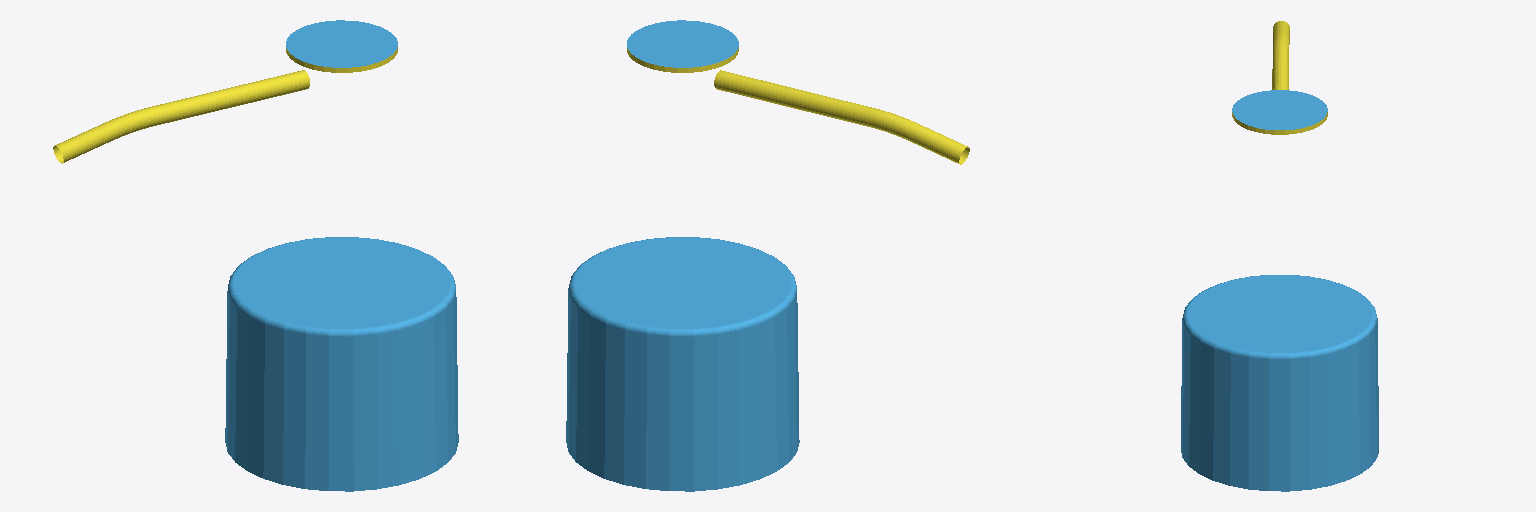
robot.urdf — partnet_9b9a4bb5550f00ea586350d6e78ecc7:
<?xml version="1.0" ?>
<robot name="partnet_9b9a4bb5550f00ea586350d6e78ecc7">
	<link name="base"/>
	<link name="link_0">
		<visual name="handle-4">
			<origin xyz="-0.013128000000000028 -0.14960500398709136 -0.04312111894339359"/>
			<geometry>
				<mesh filename="textured_objs/original-6.obj" scale="0.2 0.2 0.2"/>
			</geometry>
		</visual>
		<visual name="handle-4">
			<origin xyz="-0.013128000000000028 -0.14960500398709136 -0.04312111894339359"/>
			<geometry>
				<mesh filename="textured_objs/original-9.obj" scale="0.2 0.2 0.2"/>
			</geometry>
		</visual>
		<collision>
			<origin xyz="-0.013128000000000028 -0.14960500398709136 -0.04312111894339359"/>
			<geometry>
				<mesh filename="textured_objs/original-6.obj" scale="0.2 0.2 0.2"/>
			</geometry>
		</collision>
		<collision>
			<origin xyz="-0.013128000000000028 -0.14960500398709136 -0.04312111894339359"/>
			<geometry>
				<mesh filename="textured_objs/original-9.obj" scale="0.2 0.2 0.2"/>
			</geometry>
		</collision>
	</link>
	<joint name="joint_0" type="revolute">
		<origin xyz="0.014137898413266086 0.14960500398709136 0.044993421453171556"/>
		<axis xyz="1 0 0"/>
		<child link="link_0"/>
		<parent link="link_2"/>
		<limit lower="0.0" upper="0.36442474781641604"/>
	</joint>
	<link name="link_1">
		<visual name="base_body-10">
			<origin xyz="0 0 0"/>
			<geometry>
				<mesh filename="textured_objs/original-1.obj" scale="0.2 0.2 0.2"/>
			</geometry>
		</visual>
		<collision>
			<origin xyz="0 0 0"/>
			<geometry>
				<mesh filename="textured_objs/original-1.obj" scale="0.2 0.2 0.2"/>
			</geometry>
		</collision>
	</link>
	<joint name="joint_1" type="fixed">
		<origin rpy="1.570796326794897 0 -1.570796326794897" xyz="0 0 0"/>
		<child link="link_1"/>
		<parent link="base"/>
	</joint>
	<link name="link_2">
		<visual name="outlier-9">
			<origin xyz="0.0010098984132660596 0 0.0018723025097779692"/>
			<geometry>
				<mesh filename="textured_objs/original-5.obj" scale="0.2 0.2 0.2"/>
			</geometry>
		</visual>
		<visual name="outlier-9">
			<origin xyz="0.0010098984132660596 0 0.0018723025097779692"/>
			<geometry>
				<mesh filename="textured_objs/original-7.obj" scale="0.2 0.2 0.2"/>
			</geometry>
		</visual>
		<visual name="nose-8">
			<origin xyz="0.0010098984132660596 0 0.0018723025097779692"/>
			<geometry>
				<mesh filename="textured_objs/original-10.obj" scale="0.2 0.2 0.2"/>
			</geometry>
		</visual>
		<visual name="nose-8">
			<origin xyz="0.0010098984132660596 0 0.0018723025097779692"/>
			<geometry>
				<mesh filename="textured_objs/original-11.obj" scale="0.2 0.2 0.2"/>
			</geometry>
		</visual>
		<visual name="head-7">
			<origin xyz="0.0010098984132660596 0 0.0018723025097779692"/>
			<geometry>
				<mesh filename="textured_objs/original-8.obj" scale="0.2 0.2 0.2"/>
			</geometry>
		</visual>
		<visual name="head-7">
			<origin xyz="0.0010098984132660596 0 0.0018723025097779692"/>
			<geometry>
				<mesh filename="textured_objs/original-2.obj" scale="0.2 0.2 0.2"/>
			</geometry>
		</visual>
		<visual name="head-7">
			<origin xyz="0.0010098984132660596 0 0.0018723025097779692"/>
			<geometry>
				<mesh filename="textured_objs/original-3.obj" scale="0.2 0.2 0.2"/>
			</geometry>
		</visual>
		<visual name="head-7">
			<origin xyz="0.0010098984132660596 0 0.0018723025097779692"/>
			<geometry>
				<mesh filename="textured_objs/original-4.obj" scale="0.2 0.2 0.2"/>
			</geometry>
		</visual>
		<collision>
			<origin xyz="0.0010098984132660596 0 0.0018723025097779692"/>
			<geometry>
				<mesh filename="textured_objs/original-5.obj" scale="0.2 0.2 0.2"/>
			</geometry>
		</collision>
		<collision>
			<origin xyz="0.0010098984132660596 0 0.0018723025097779692"/>
			<geometry>
				<mesh filename="textured_objs/original-7.obj" scale="0.2 0.2 0.2"/>
			</geometry>
		</collision>
		<collision>
			<origin xyz="0.0010098984132660596 0 0.0018723025097779692"/>
			<geometry>
				<mesh filename="textured_objs/original-10.obj" scale="0.2 0.2 0.2"/>
			</geometry>
		</collision>
		<collision>
			<origin xyz="0.0010098984132660596 0 0.0018723025097779692"/>
			<geometry>
				<mesh filename="textured_objs/original-11.obj" scale="0.2 0.2 0.2"/>
			</geometry>
		</collision>
		<collision>
			<origin xyz="0.0010098984132660596 0 0.0018723025097779692"/>
			<geometry>
				<mesh filename="textured_objs/original-8.obj" scale="0.2 0.2 0.2"/>
			</geometry>
		</collision>
		<collision>
			<origin xyz="0.0010098984132660596 0 0.0018723025097779692"/>
			<geometry>
				<mesh filename="textured_objs/original-2.obj" scale="0.2 0.2 0.2"/>
			</geometry>
		</collision>
		<collision>
			<origin xyz="0.0010098984132660596 0 0.0018723025097779692"/>
			<geometry>
				<mesh filename="textured_objs/original-3.obj" scale="0.2 0.2 0.2"/>
			</geometry>
		</collision>
		<collision>
			<origin xyz="0.0010098984132660596 0 0.0018723025097779692"/>
			<geometry>
				<mesh filename="textured_objs/original-4.obj" scale="0.2 0.2 0.2"/>
			</geometry>
		</collision>
	</link>
	<joint name="joint_2" type="fixed">
		<origin xyz="0.0 0 0.0"/>
		<axis xyz="0 1 0"/>
		<child link="link_2"/>
		<parent link="link_2_helper"/>
	</joint>
	<link name="link_2_helper"/>
	<joint name="joint_3" type="fixed">
		<origin xyz="-0.0010098984132660596 0 -0.0018723025097779692"/>
		<axis xyz="0 1 0"/>
		<child link="link_2_helper"/>
		<parent link="link_1"/>
		<limit lower="-0.04800000000000004" upper="-0.008000000000000007"/>
	</joint>
</robot>

--- What the picture shows (computed from the rendered views, not written in the file) ---
3 views of the same robot in one strip: view 1: azimuth 30°, elevation 25°; view 2: azimuth 150°, elevation 25°; view 3: azimuth 270°, elevation 25° (orthographic).
Robot: partnet_9b9a4bb5550f00ea586350d6e78ecc7 — 5 links, 4 joints (1 revolute, 3 fixed); root link base; default pose: every joint at zero.
Links seen in each view (by area): view 1: link_0, link_2; view 2: link_0, link_2; view 3: link_0, link_2.
Boxes of the visible links, x1=… form: link_0: x1=225, y1=20, x2=458, y2=491; link_2: x1=53, y1=47, x2=397, y2=163; link_0: x1=566, y1=20, x2=799, y2=491; link_2: x1=627, y1=47, x2=969, y2=164; link_0: x1=1181, y1=90, x2=1378, y2=491; link_2: x1=1232, y1=21, x2=1327, y2=134.
Size in the robot's own frame: 0.1141 by 0.0599 by 0.1128 metres.
5 mesh visuals loaded from 11 distinct referenced files (5 OBJ); not drawn: 6 (reference not matched to a file when rendering).